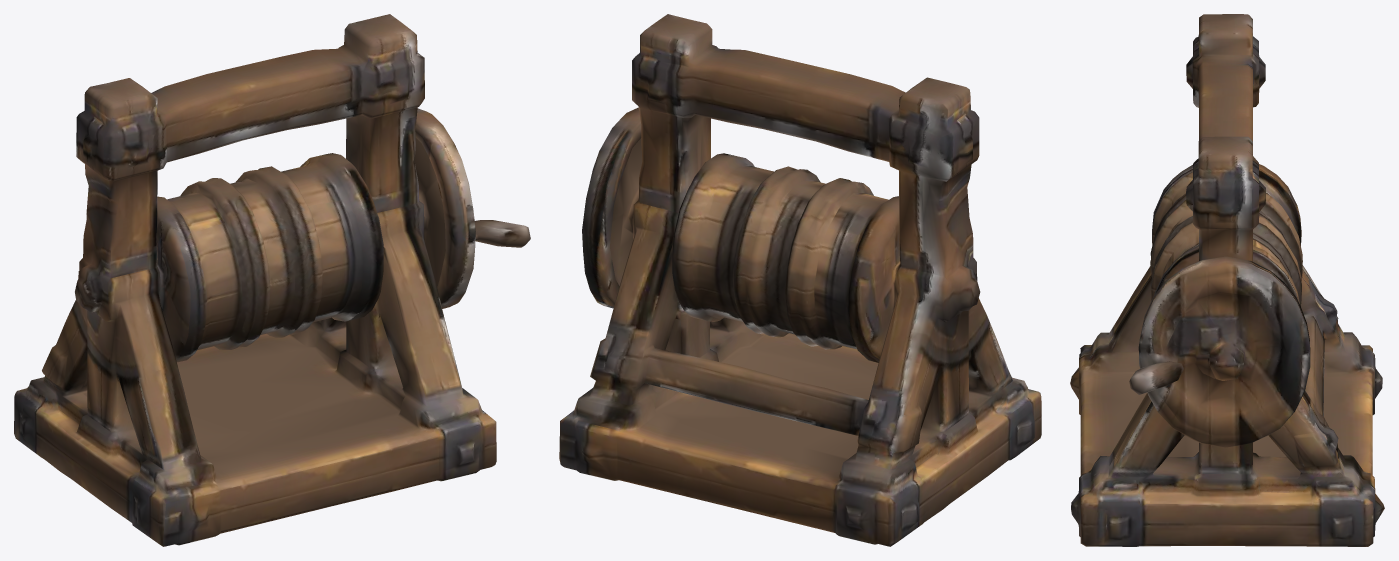
Rendered from SM_Env_CargoHoist.glb.
The picture shows the model from 3 angles, left to right: view 1: azimuth 30°, elevation 25°; view 2: azimuth 150°, elevation 25°; view 3: azimuth 270°, elevation 25°; orthographic projection. The views are drawn at different scales.
Parts seen in each view (by area): view 1: SM_Env_CargoHoist_LOD0; view 2: SM_Env_CargoHoist_LOD0; view 3: SM_Env_CargoHoist_LOD0.
Boxes of the visible parts, x1,y1,x2,y2 form: SM_Env_CargoHoist_LOD0: (14, 14, 530, 546); SM_Env_CargoHoist_LOD0: (559, 14, 1041, 546); SM_Env_CargoHoist_LOD0: (1070, 14, 1384, 546).
Size of the model in its own units: 3.61 by 3.41 by 2.53.
Materials: 1 (1 with a texture image).
